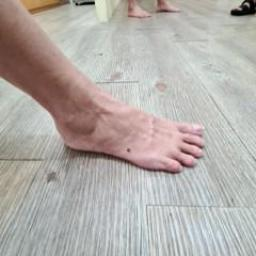Lateral View -Right Foot-: (36, 69, 225, 193)
